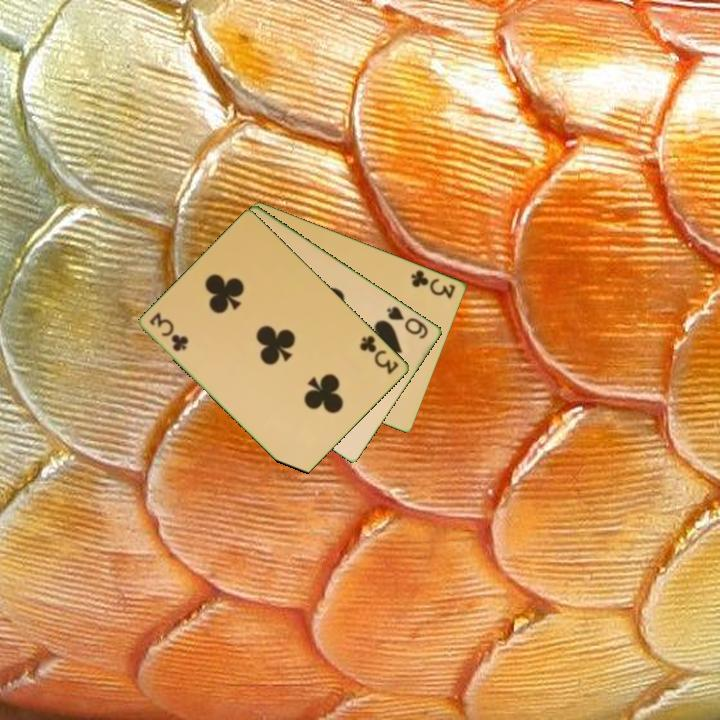3c: (356, 332, 402, 377), (146, 309, 191, 355), (408, 266, 459, 301)
6s: (384, 302, 432, 342)
